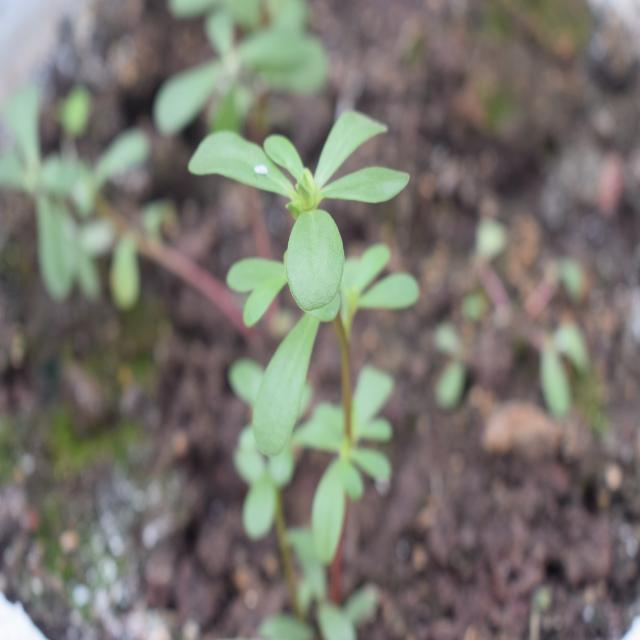purslane: (179, 95, 415, 552)
